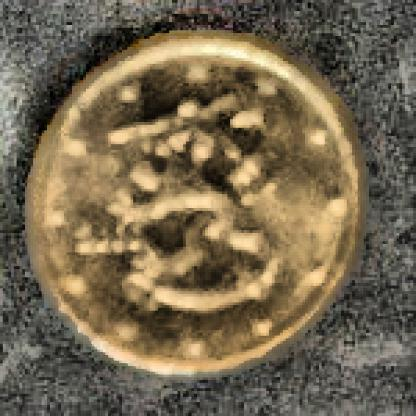coin: (25, 36, 361, 374)
